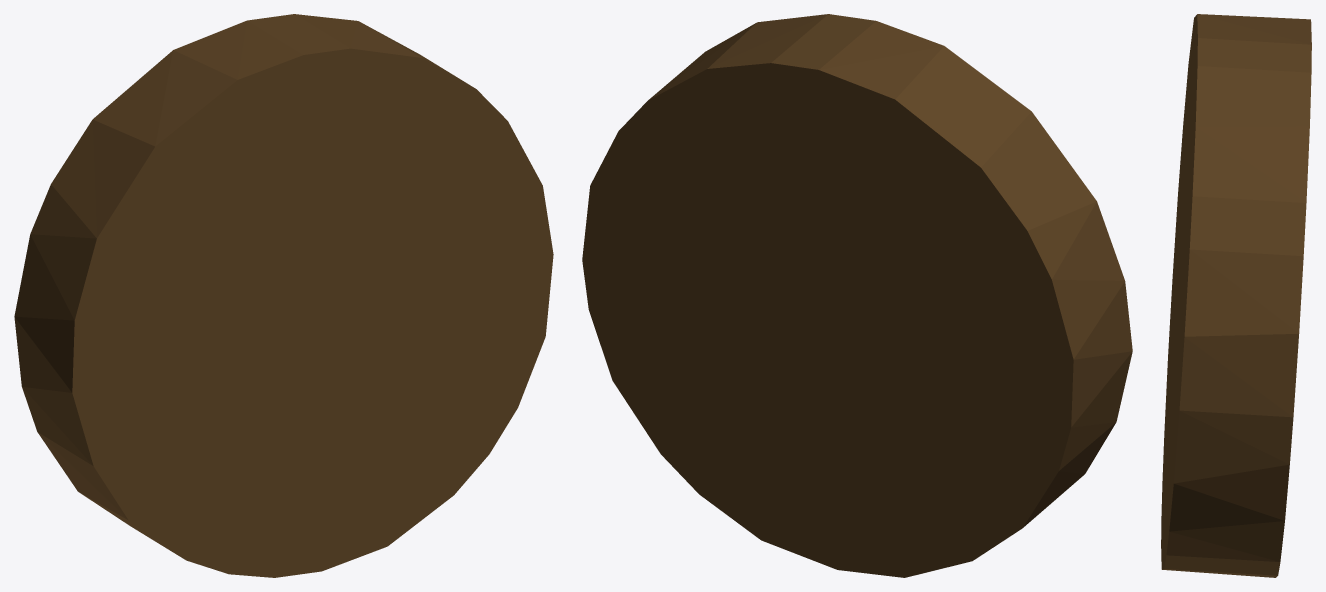
File: left_elbow_x_link_visual_11.obj
The picture shows the model from 3 angles, left to right: view 1: azimuth 30°, elevation 25°; view 2: azimuth 150°, elevation 25°; view 3: azimuth 270°, elevation 25°; orthographic projection. The views are drawn at different scales.
Parts seen in each view (by area): view 1: i01.left.bicep.full.012_visual.001; view 2: i01.left.bicep.full.012_visual.001; view 3: i01.left.bicep.full.012_visual.001.
Boxes of the visible parts, left/top/right/bottom form: i01.left.bicep.full.012_visual.001: left=14, top=14, right=553, bottom=577; i01.left.bicep.full.012_visual.001: left=582, top=14, right=1132, bottom=577; i01.left.bicep.full.012_visual.001: left=1161, top=14, right=1311, bottom=577.
Bounding box in the file's own units: 0.1668 × 0.1686 × 0.0448.
